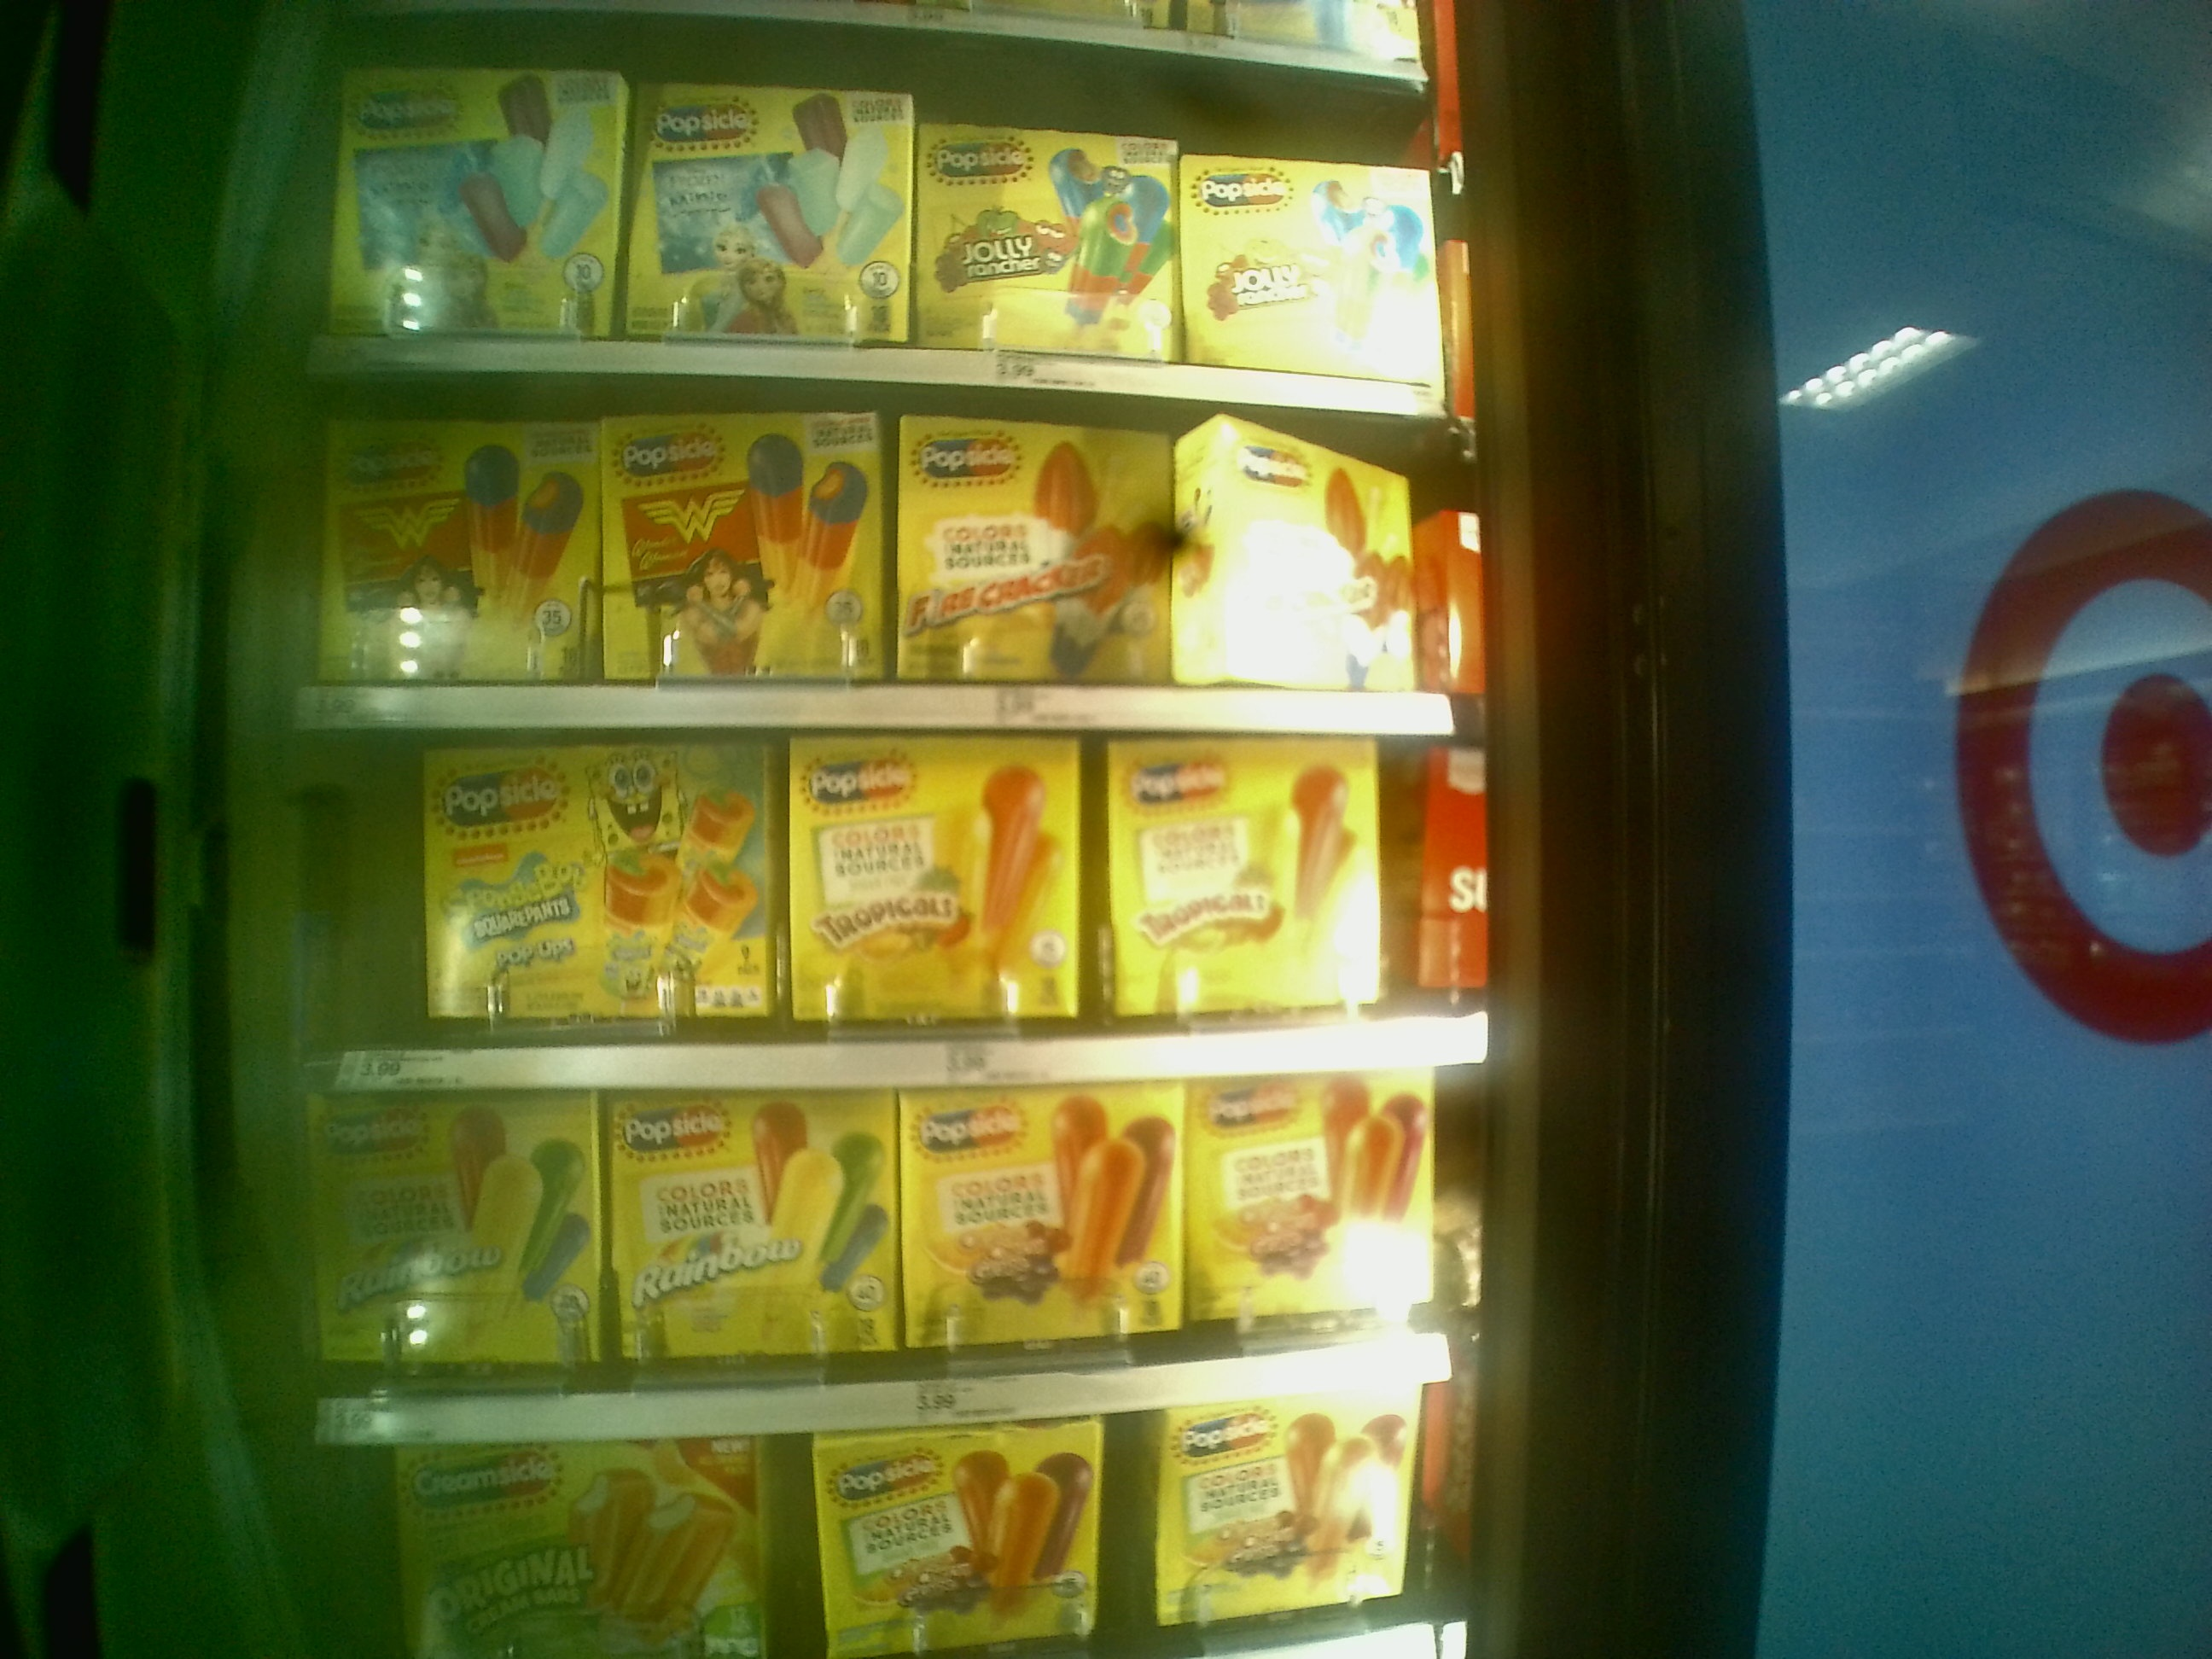frozen-food-shelf: (319, 31, 1451, 411), (287, 739, 1489, 1089), (270, 382, 1470, 732), (322, 1096, 1474, 1445)
